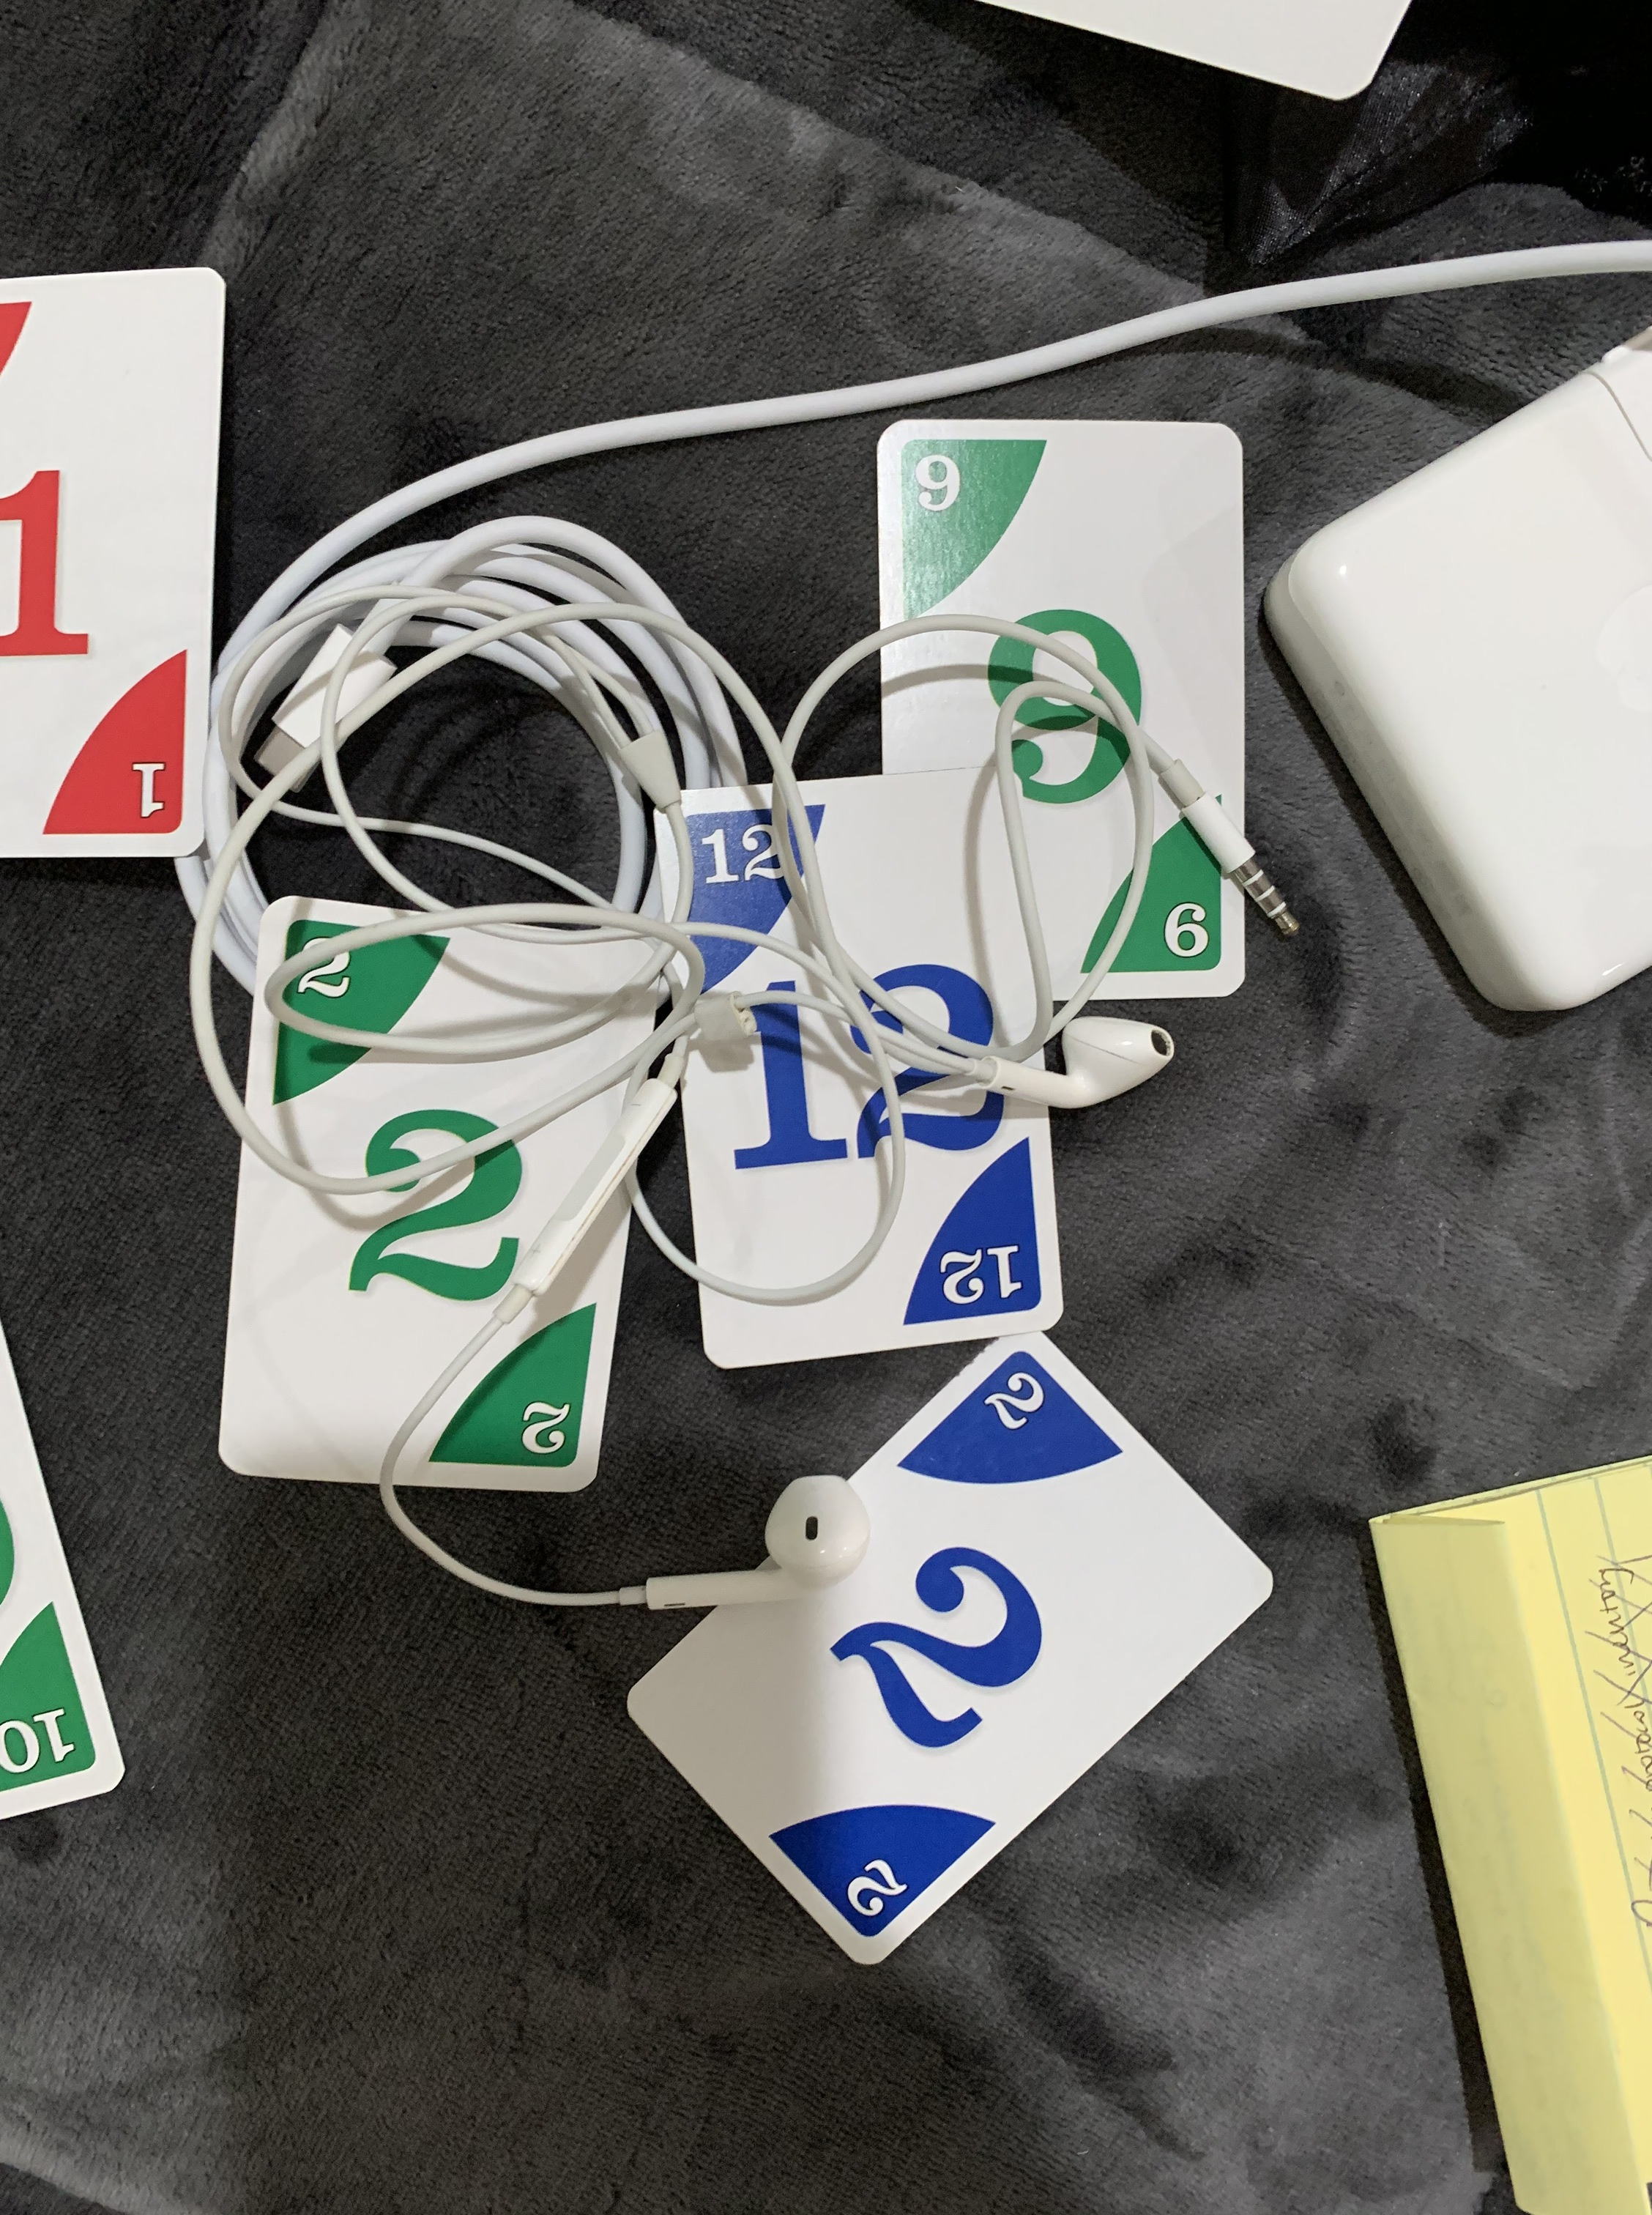nine: (859, 403, 1270, 1024)
twelve: (632, 769, 1088, 1385)
two: (599, 1323, 1284, 1988), (198, 887, 661, 1514)
